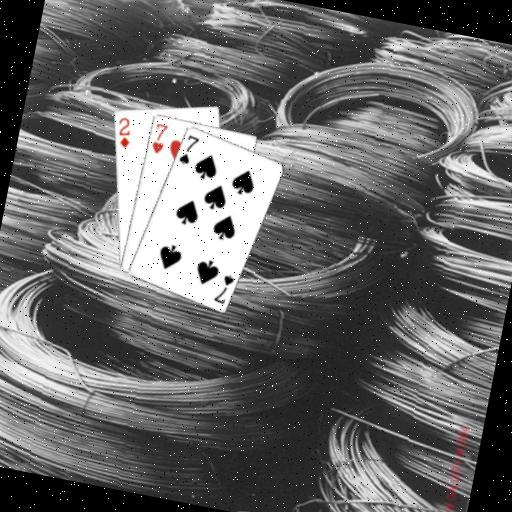2D: (111, 114, 136, 151)
7H: (148, 120, 170, 156)
7S: (175, 130, 202, 167), (210, 270, 236, 307)
